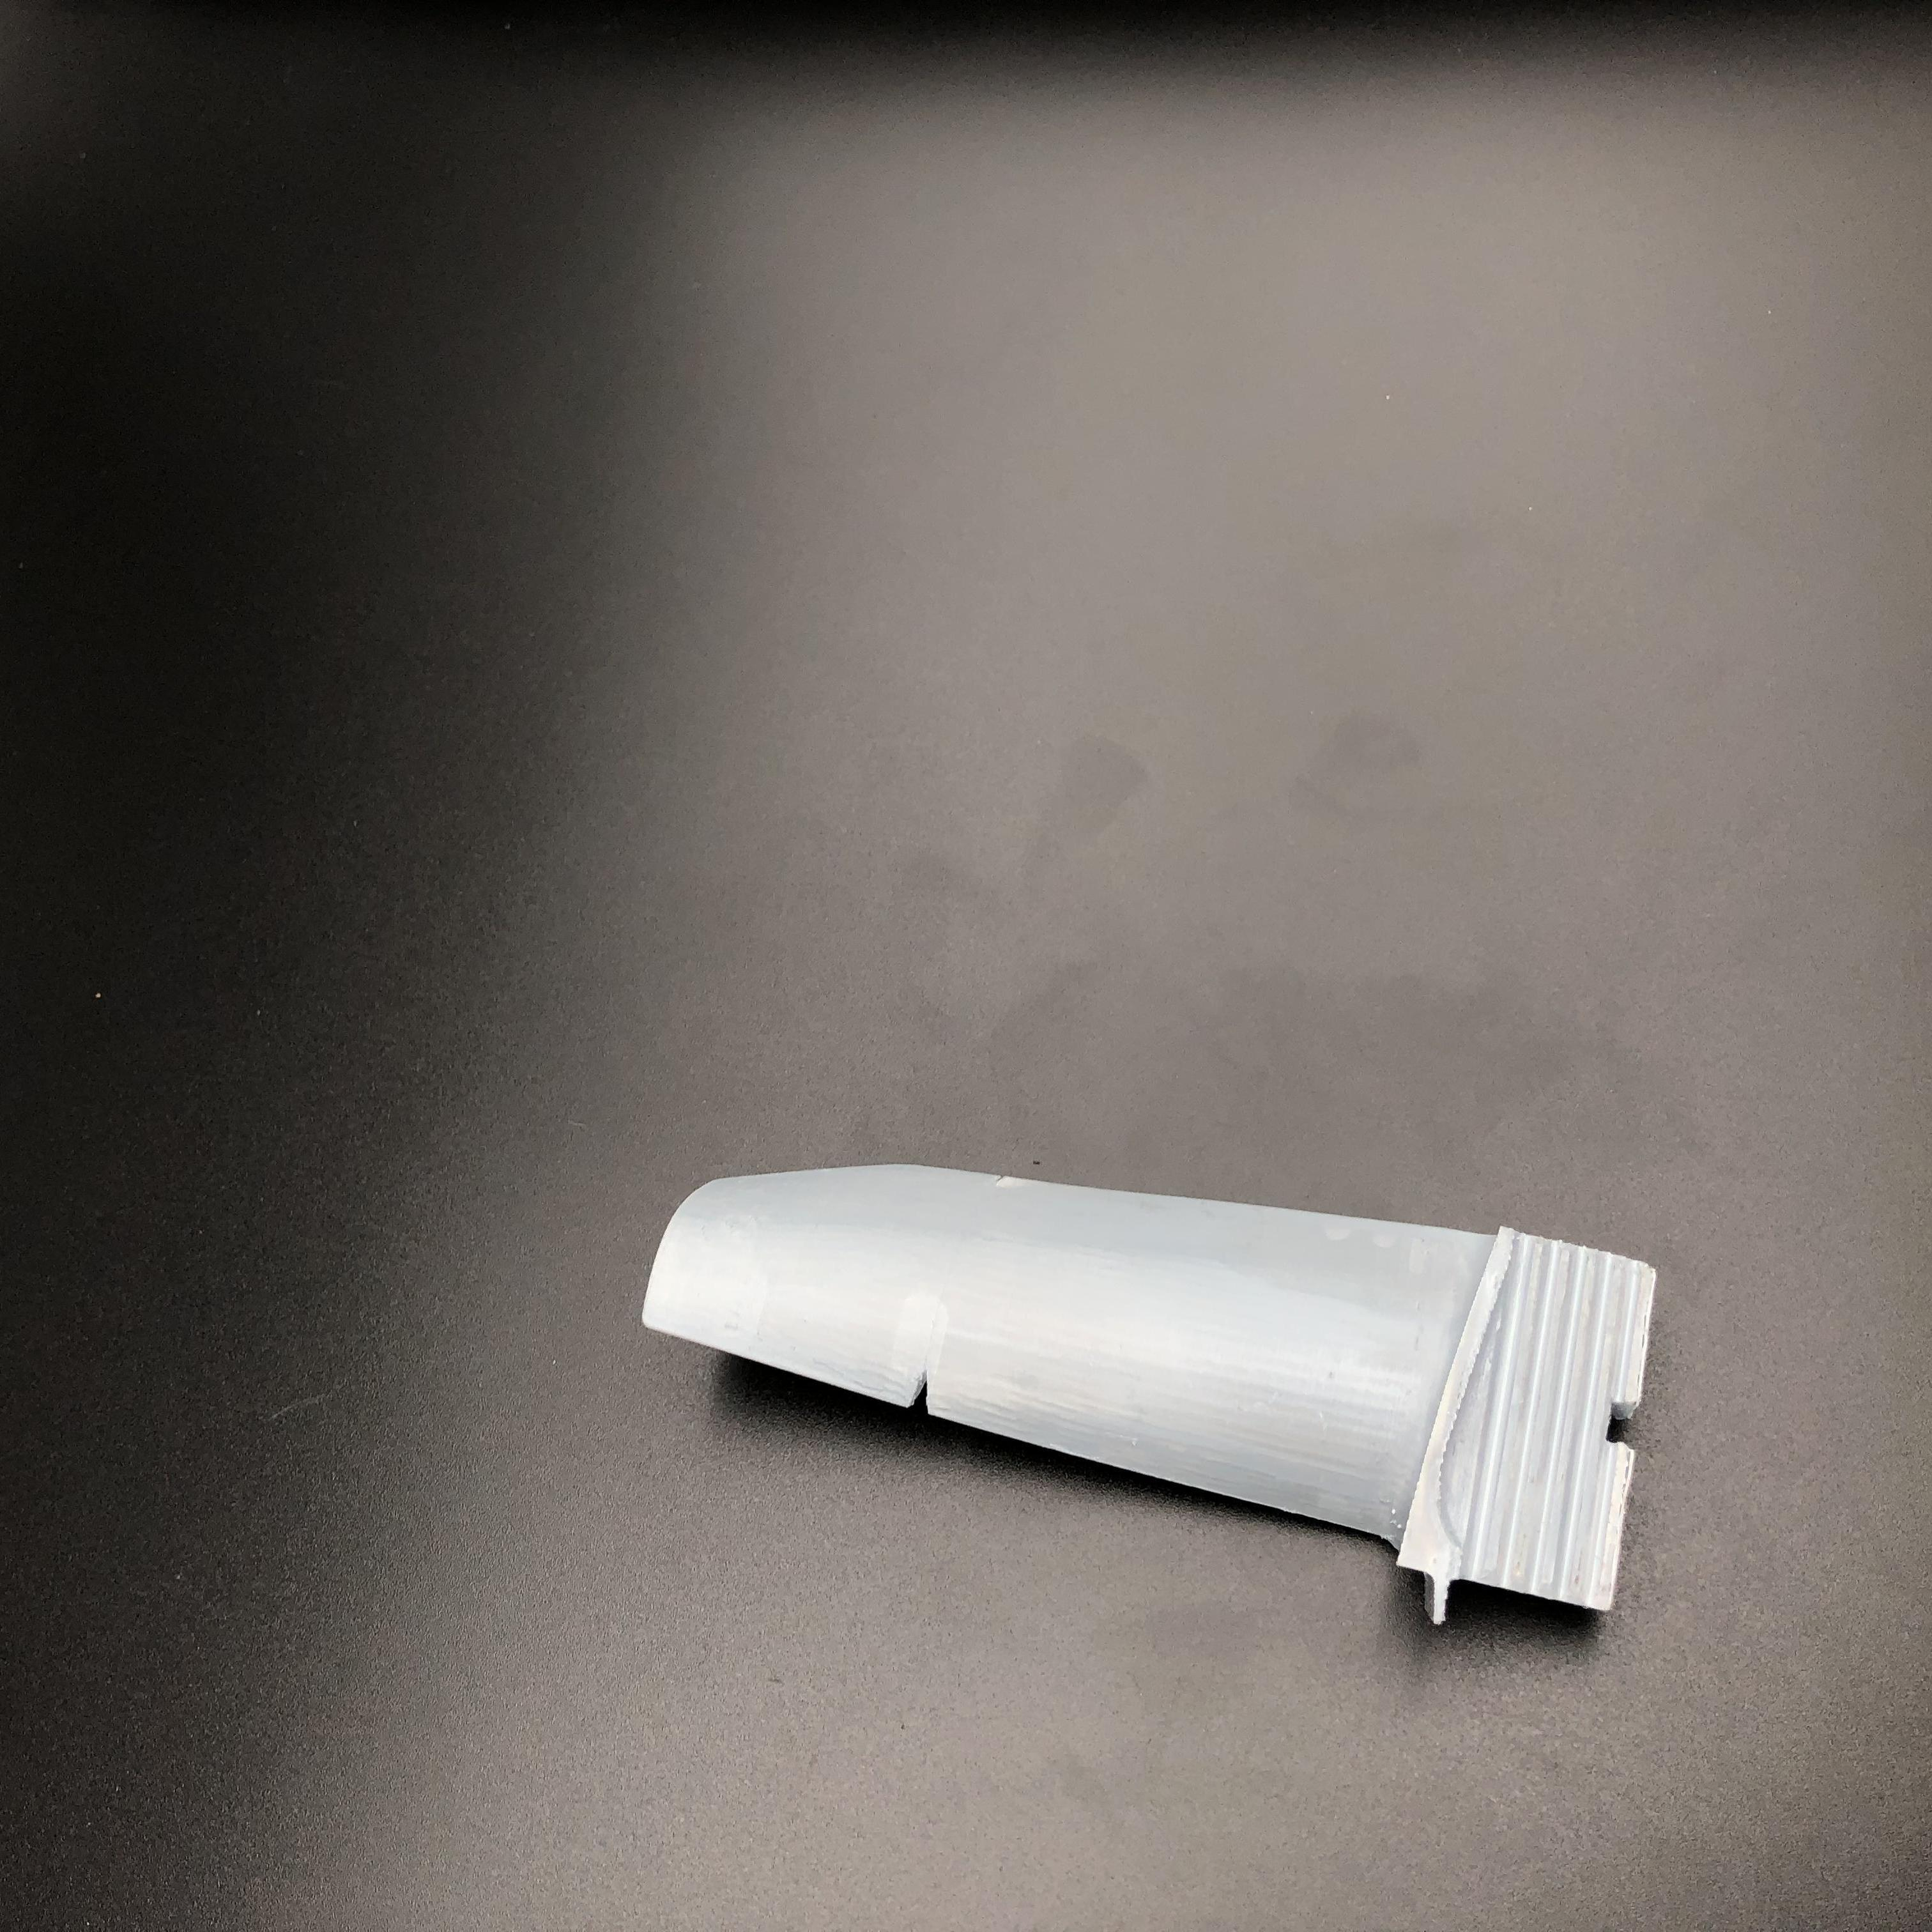groove: (909, 1375, 952, 1415)
